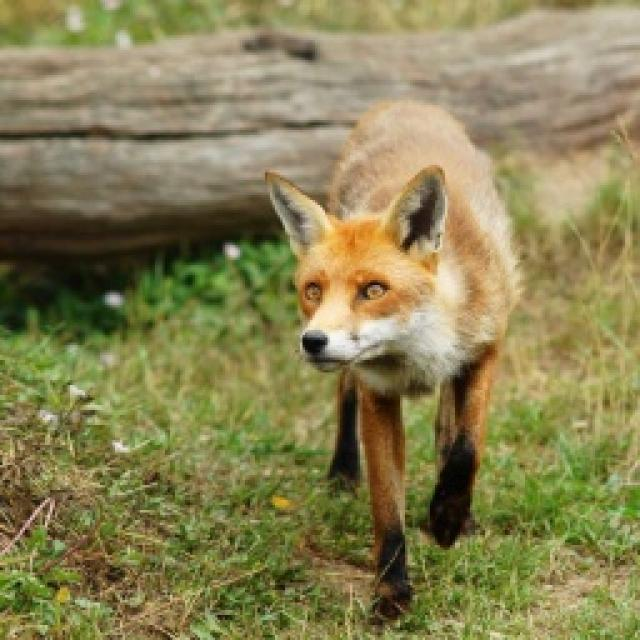Fox: (256, 101, 515, 614)
